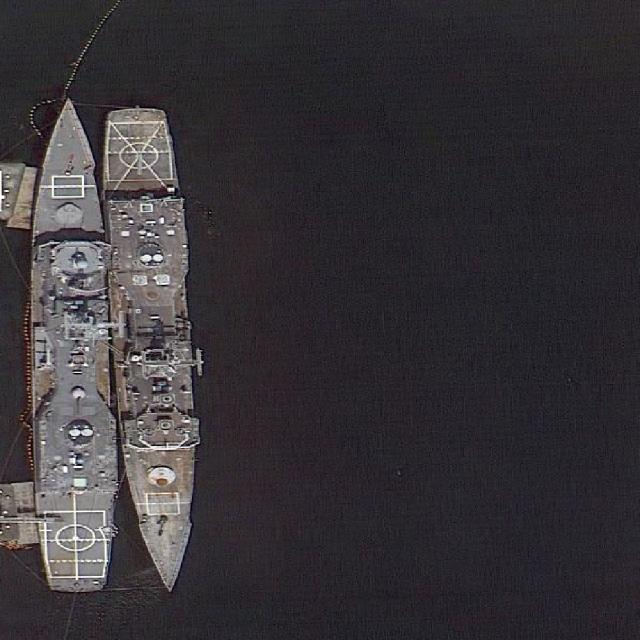Destroyer: (100, 105, 209, 592)
Frigate: (27, 96, 115, 593)
